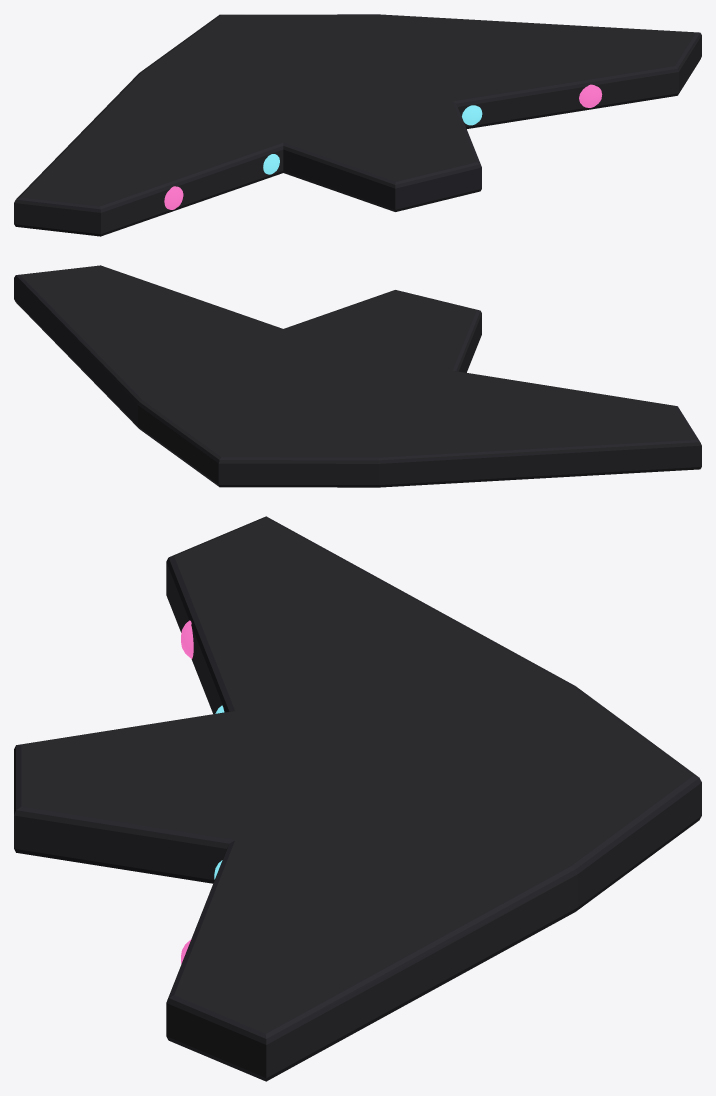
File: manta.glb
The picture shows the model from 3 angles, top to bottom: view 1: azimuth 30°, elevation 25°; view 2: azimuth 150°, elevation 25°; view 3: azimuth 270°, elevation 25°; orthographic projection. The views are drawn at different scales.
Parts seen in each view (by area): view 1: hull_mesh, vent, vent-ion; view 2: hull_mesh; view 3: hull_mesh.
Part boxes in pixels (<box>): hull_mesh: <box>14,14,701,236</box>; vent: <box>164,84,602,209</box>; vent-ion: <box>263,105,482,174</box>; hull_mesh: <box>14,265,701,487</box>; hull_mesh: <box>14,516,701,1081</box>.
Bounding box in the file's own units: 6 × 0.2478 × 3.32.
